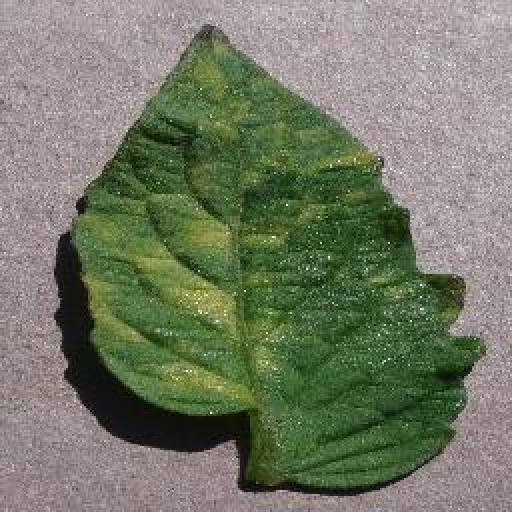Leaf Mold: (68, 20, 487, 492)
